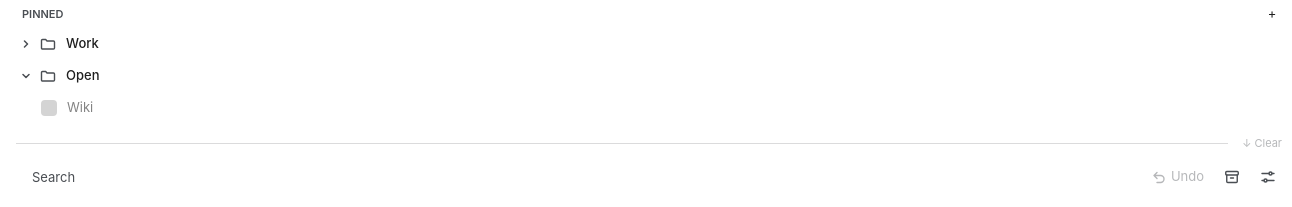
Test case: restores the normal view when Escape clears the field, with the Folders collapsed as before
The image size is (1292, 207).
Type "mail" into the search field. click: [579, 177]
box: [22,163,1137,191]
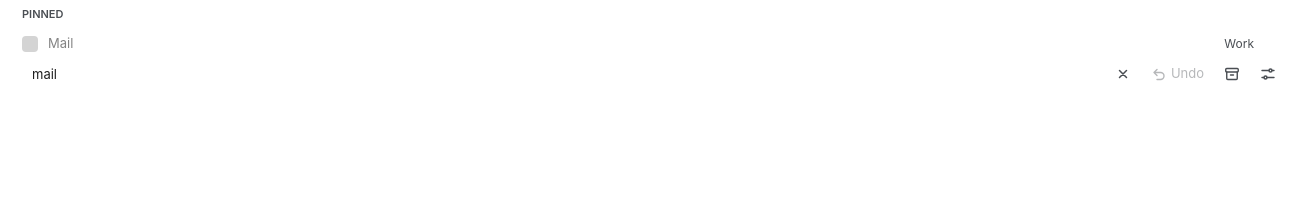
Expected: the button "Mail Work" is shown, [12,28,1264,60]
Press Escape
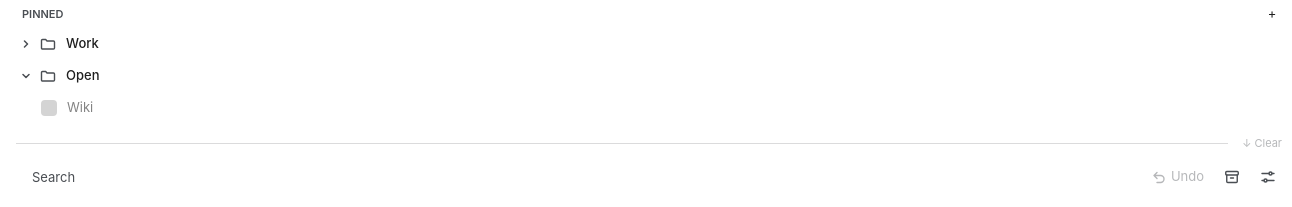
Expected: the search field is empty, [22,163,1137,191]
Expected: the button "Mail" is gone
Expected: the button "Wiki" is shown, [31,92,1264,124]
